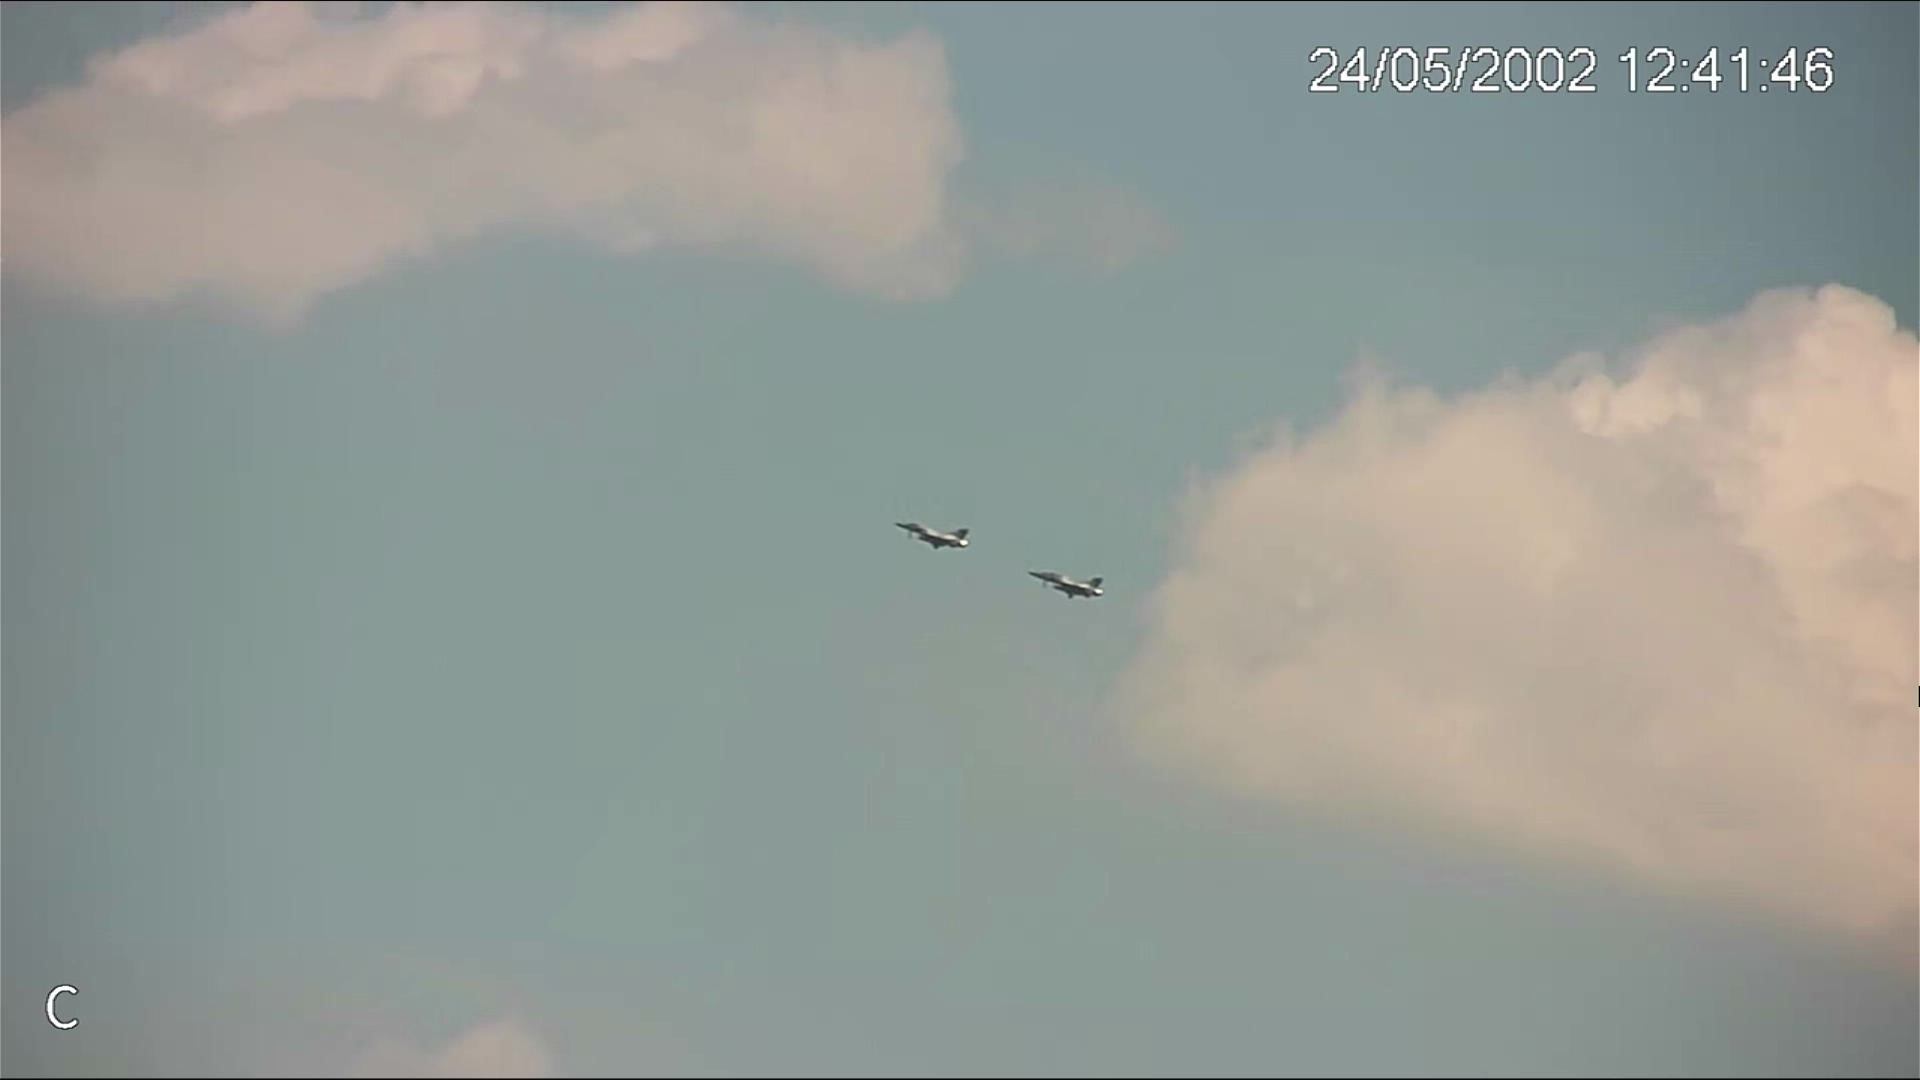SU_30: (1027, 568, 1108, 603), (897, 518, 975, 553)
